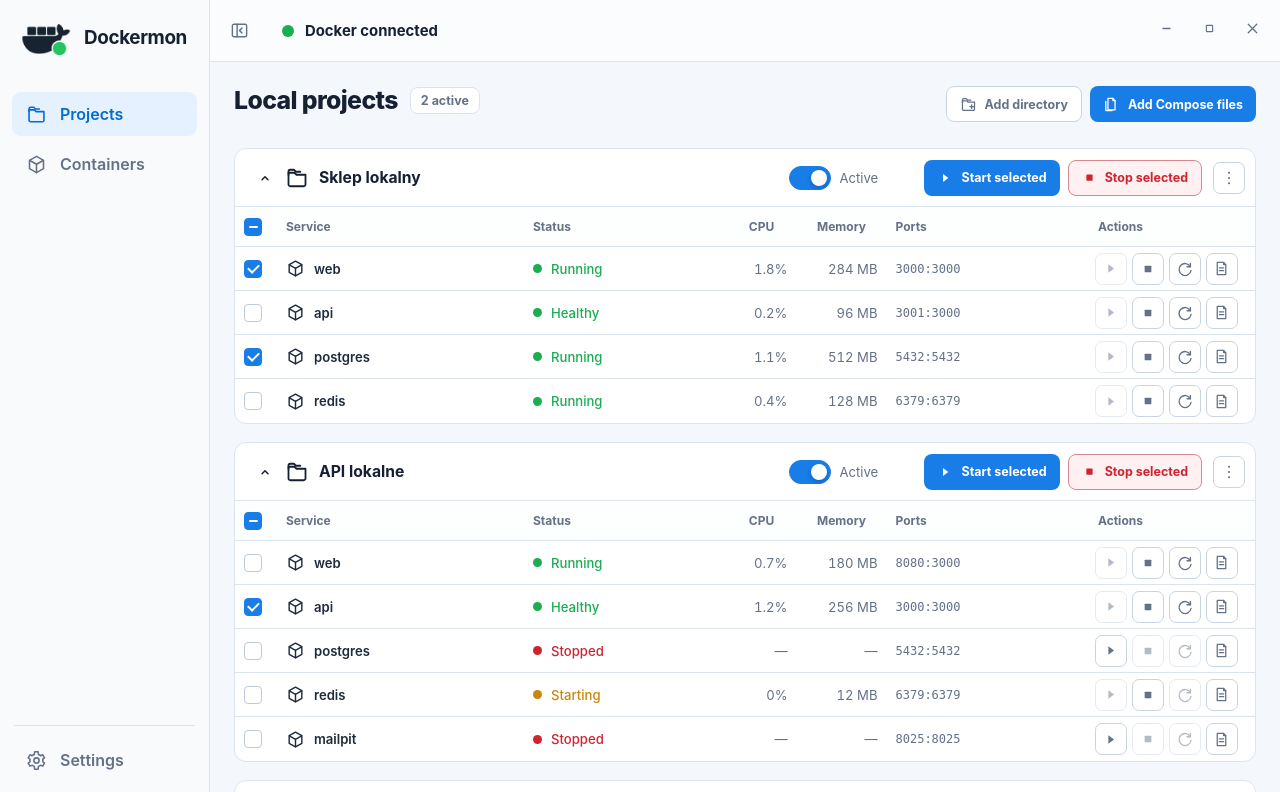
App › keeps bulk selection scoped to its project action
Click the 1st button "Stop selected" at (1135, 178), box [1068,160,1202,196]
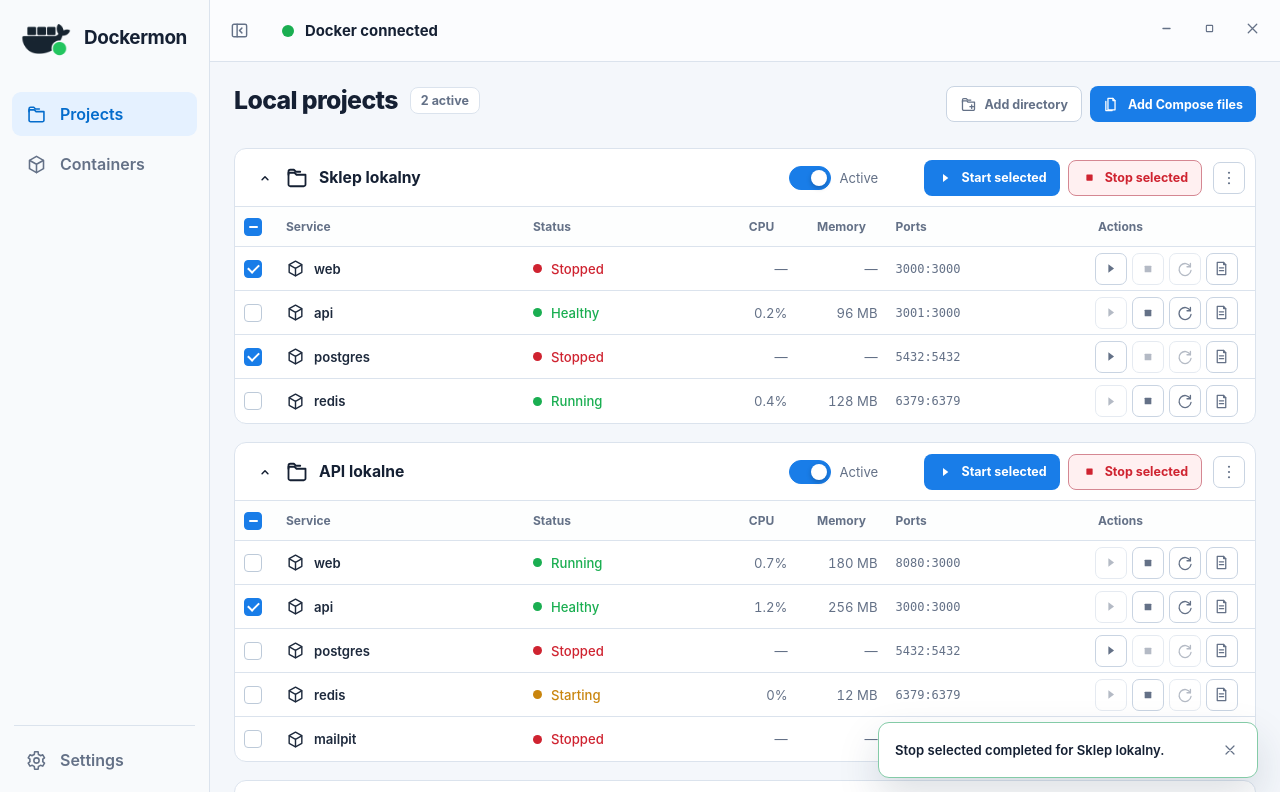
Expected: the row with test id "service-storefront-api" shows "Healthy", [551,304,599,320]
Expected: the row with test id "service-storefront-web" shows "Stopped", [551,260,604,276]
Expected: the row with test id "service-storefront-postgres" shows "Stopped", [551,348,604,364]
